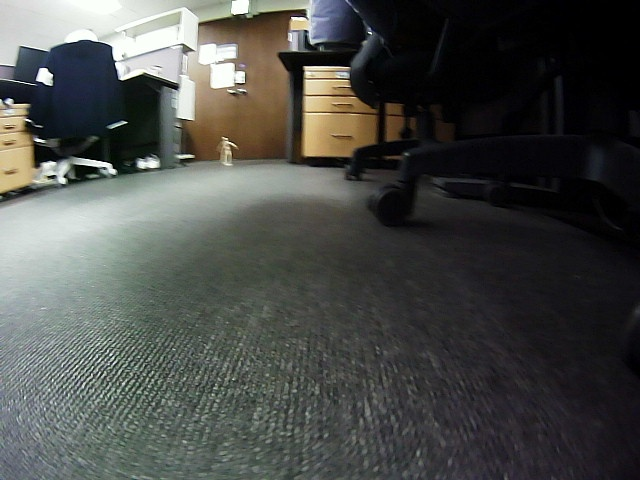person: (217, 137, 238, 164)
